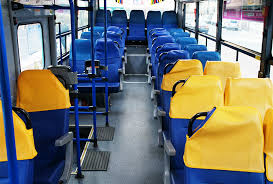seat: (189, 104, 266, 184)
